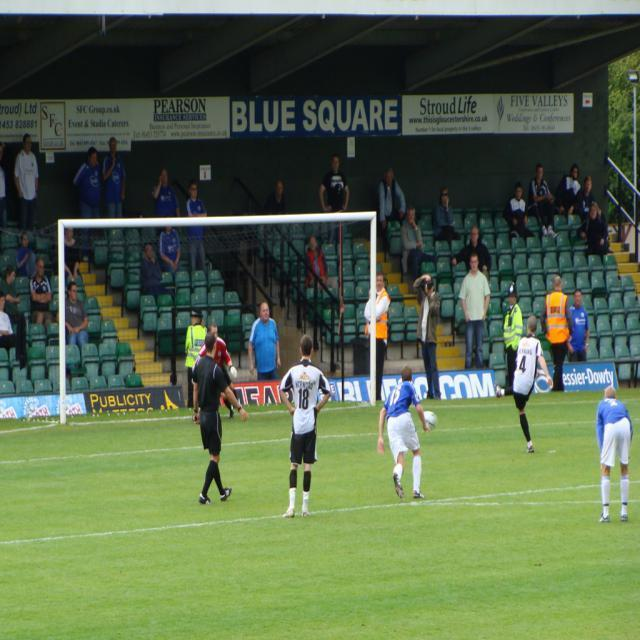football: (419, 406, 455, 440)
